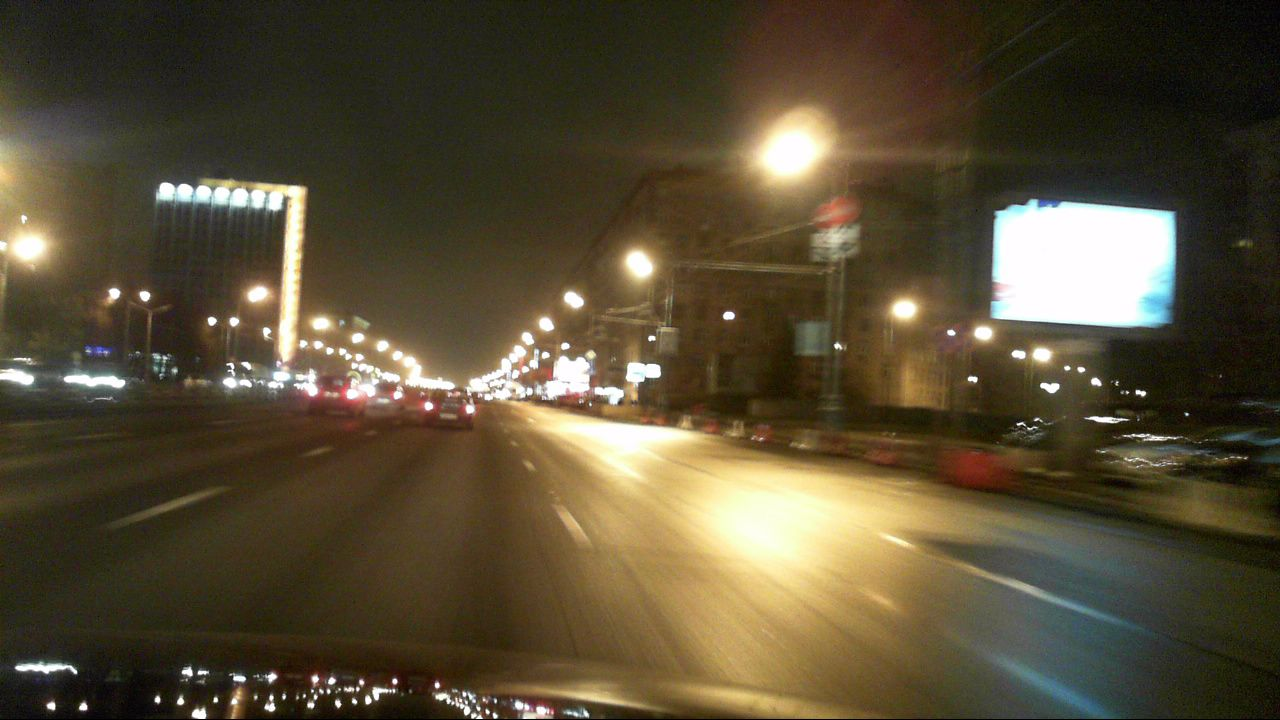No Parking: (935, 322, 968, 355)
